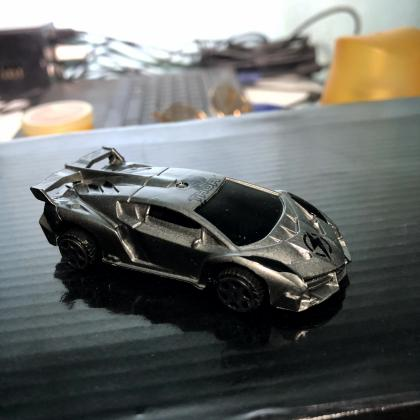Car: (27, 139, 358, 321)
